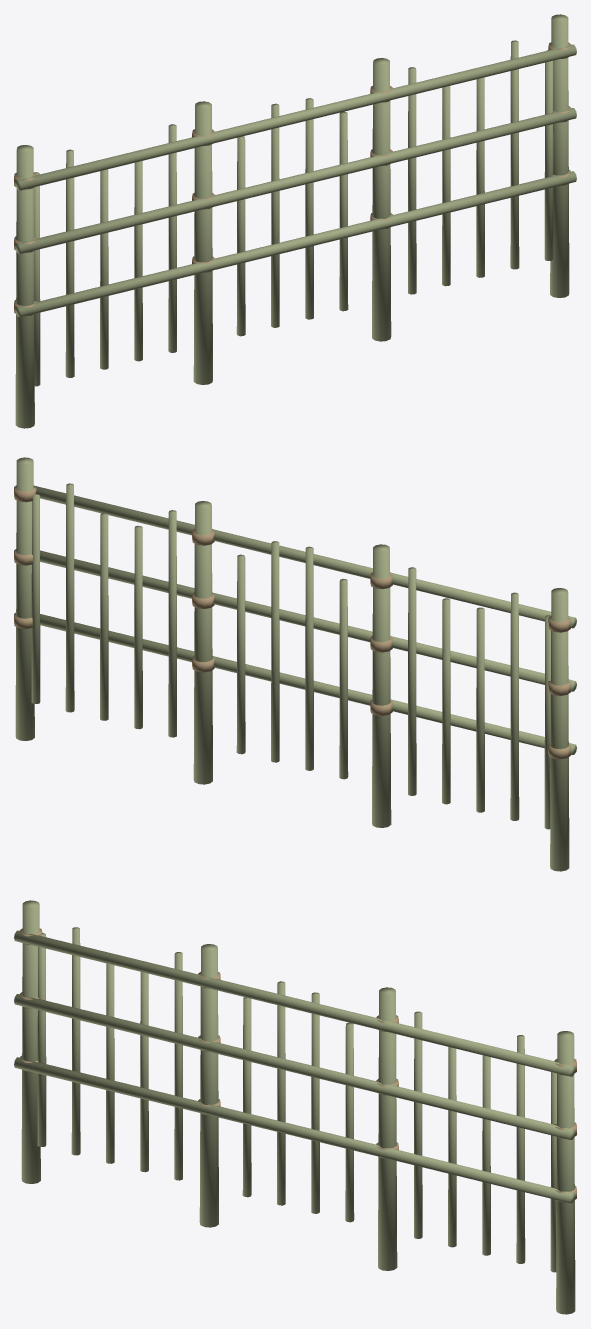
The model's file is edo_bamboo_fence.glb.
3 views of the same model, one above another, from view 1: azimuth 30°, elevation 25°; view 2: azimuth 150°, elevation 25°; view 3: azimuth 330°, elevation 25° (orthographic).
Visible parts, largest first — view 1: fence_bamboo, fence_lash; view 2: fence_bamboo, fence_lash; view 3: fence_bamboo, fence_lash.
Part boxes in pixels (x1,y1,x2,y2): fence_bamboo: (15,14,576,428); fence_lash: (14,42,570,316); fence_bamboo: (15,457,576,871); fence_lash: (14,485,570,759); fence_bamboo: (14,900,575,1314); fence_lash: (20,928,576,1202).
Size of the model in its own units: 3.12 by 1.48 by 0.12.
